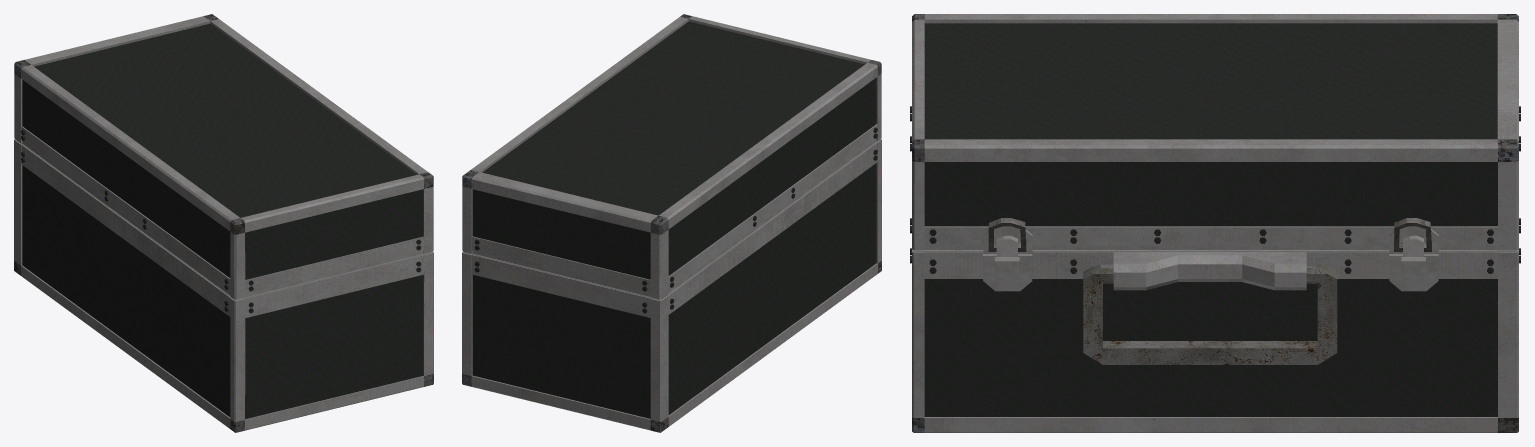
The model's file is tabletop briefcase1.glb.
3 renders of one model, left to right at view 1: azimuth 30°, elevation 25°; view 2: azimuth 150°, elevation 25°; view 3: azimuth 270°, elevation 25°, orthographic. The views are drawn at different scales.
Parts seen in each view (by area): view 1: Cylinder_001, Cube_004; view 2: Cylinder_001, Cube_004; view 3: Cylinder_001, Cube_004.
Boxes of the visible parts, box(x1,y1,x2,y2) form: Cylinder_001: box(14, 14, 433, 299); Cube_004: box(14, 139, 433, 432); Cylinder_001: box(462, 14, 881, 299); Cube_004: box(462, 139, 881, 432); Cylinder_001: box(910, 14, 1520, 256); Cube_004: box(910, 136, 1520, 432).
Bounding box in the file's own units: 2.4 × 2.16 × 4.17.
5 materials, 4 textured.
